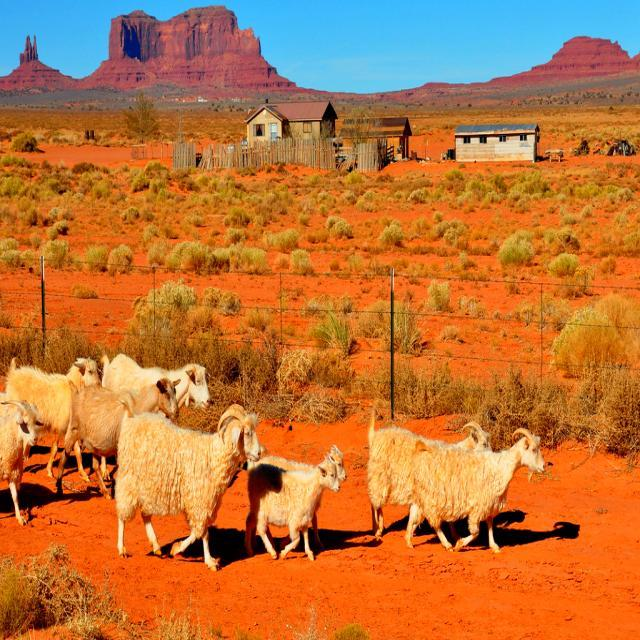Goat: (115, 402, 264, 572), (406, 426, 548, 553), (367, 408, 493, 544), (55, 376, 181, 499), (4, 355, 102, 480), (245, 445, 347, 561), (99, 352, 212, 412), (1, 397, 45, 526)
